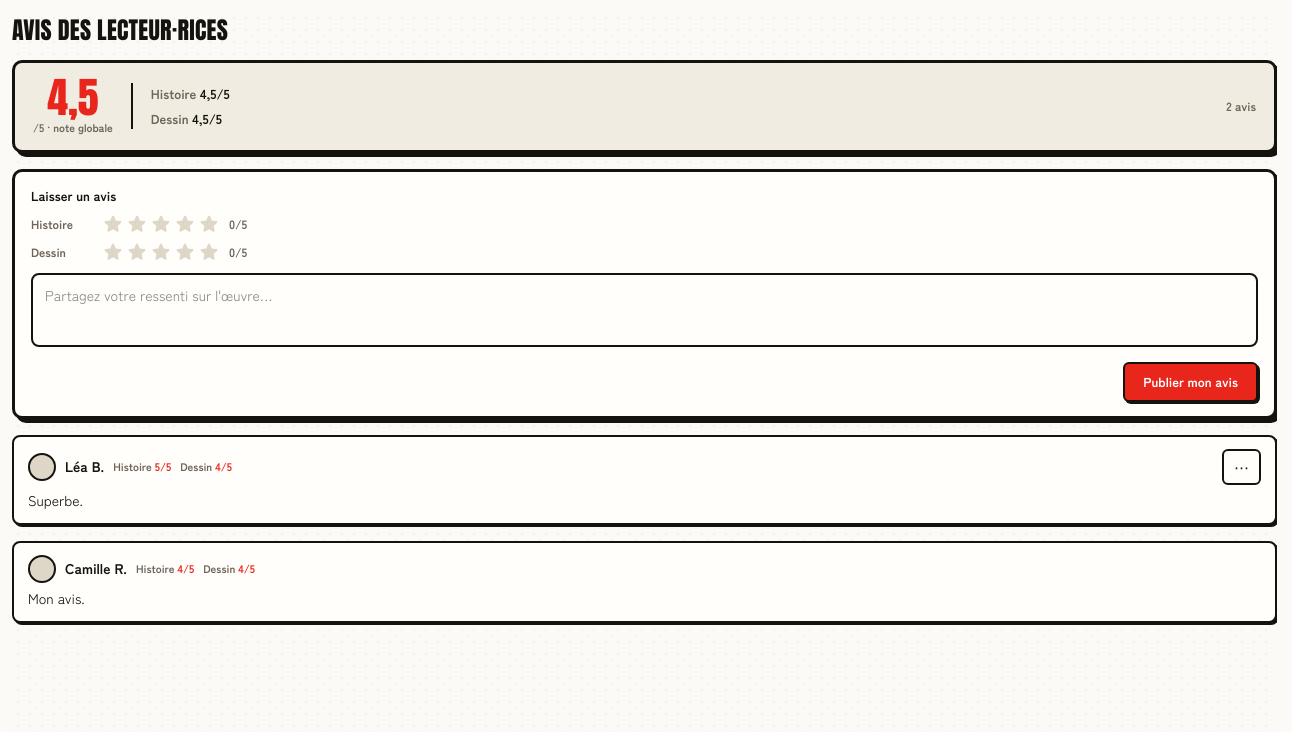
Test case: ReviewsSection (DR-3 FE-6) › mute a review author (MC-10 F7) › mutes the author, hides their reviews and announces it
The width and height of the screenshot is (1292, 732).
What coordinates should you click on to do the following:
click the button named "actions sur l'avis de léa b."
I would click on:
 (1242, 466)
Its box is [1222,448,1261,484].
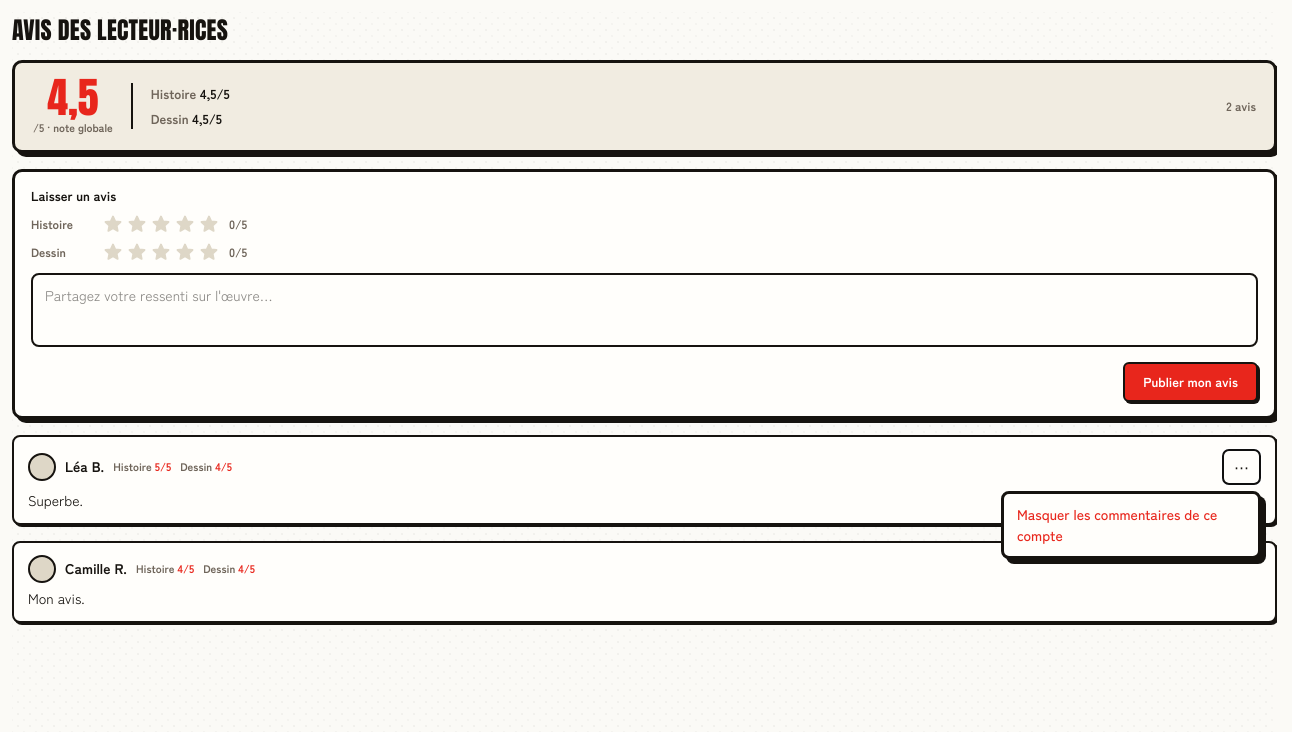
What coordinates should you click on to do the following:
click the menu item "Masquer les commentaires de ce compte"
I would click on:
 (1131, 524)
Its box is [1004,494,1258,556].
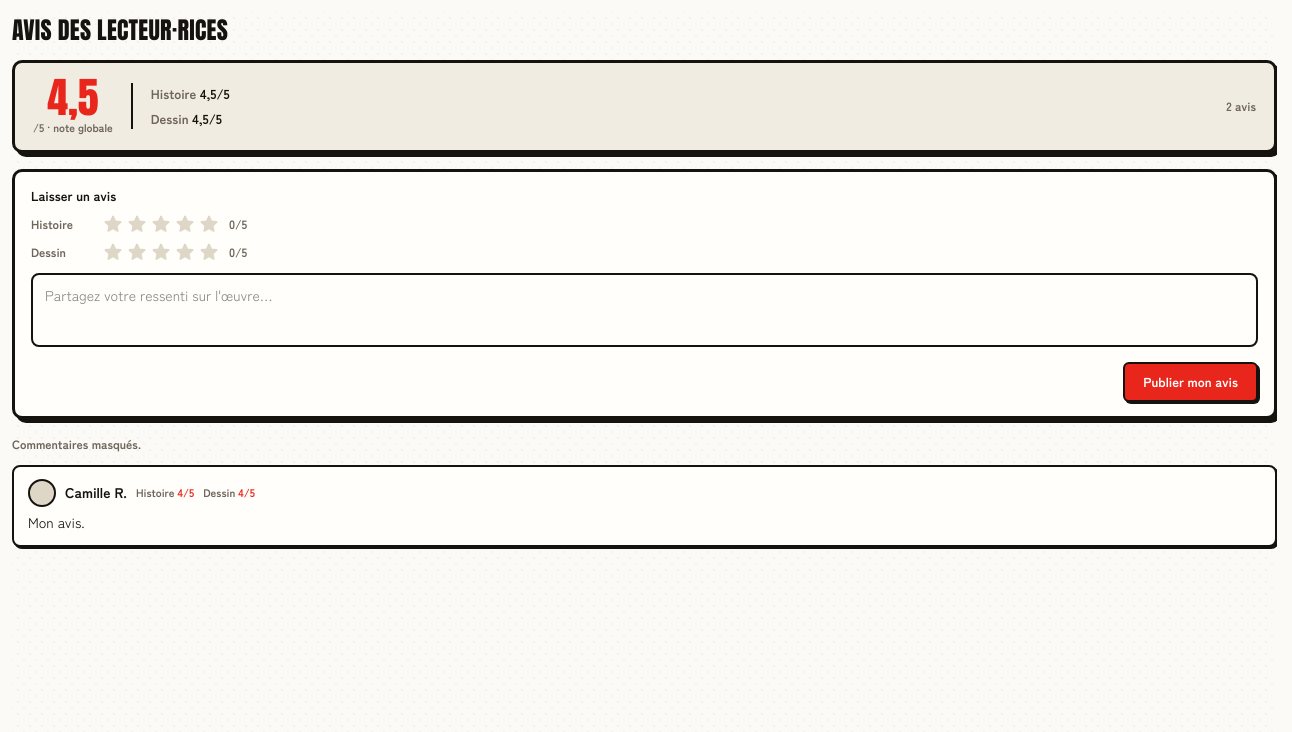
Now the text "Superbe." is gone
Now the message reads "Commentaires masqués.", box [12,434,141,452]
